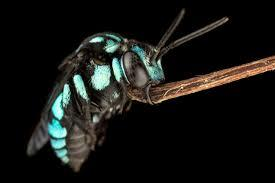Thyreus: (23, 9, 234, 176)
